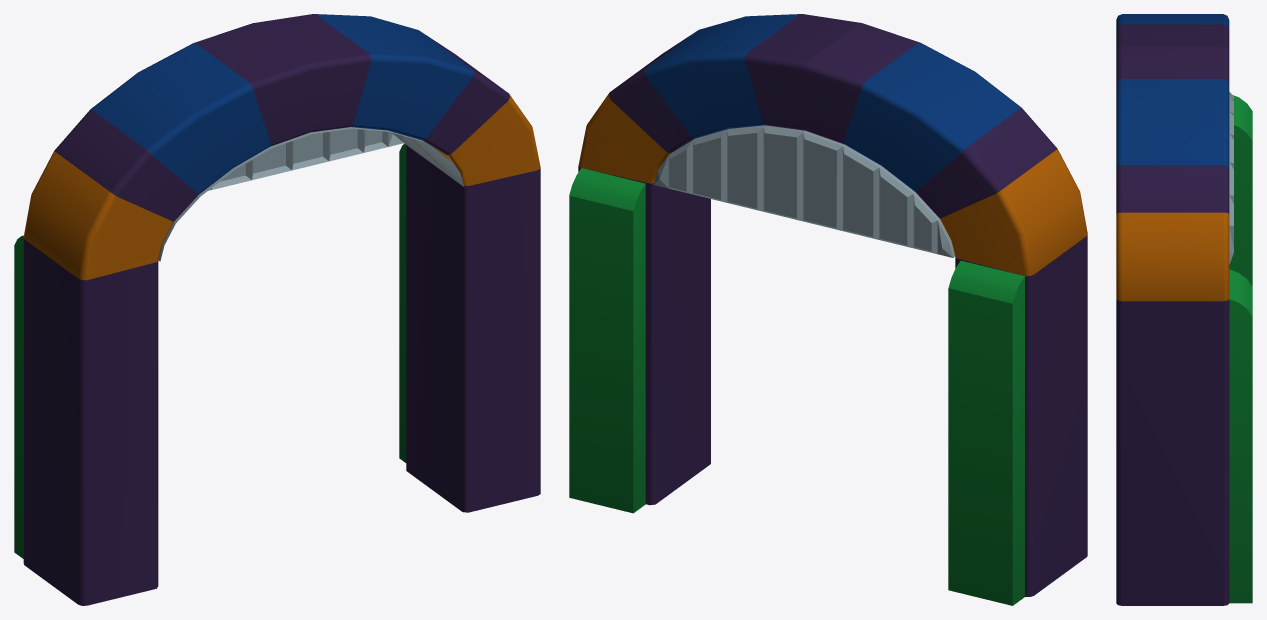
Rendered from door_frame2.fbx.
3 views of the same model, side by side, from view 1: azimuth 30°, elevation 25°; view 2: azimuth 150°, elevation 25°; view 3: azimuth 270°, elevation 25° (orthographic). The views are drawn at different scales.
Visible parts, largest first — view 1: door_frame2; view 2: door_frame2; view 3: door_frame2.
Boxes of the visible parts, <box> form: door_frame2: <box>14,14,540,605</box>; door_frame2: <box>569,14,1087,605</box>; door_frame2: <box>1116,14,1252,605</box>.
Bounding box in the file's own units: 881 × 886 × 242.
